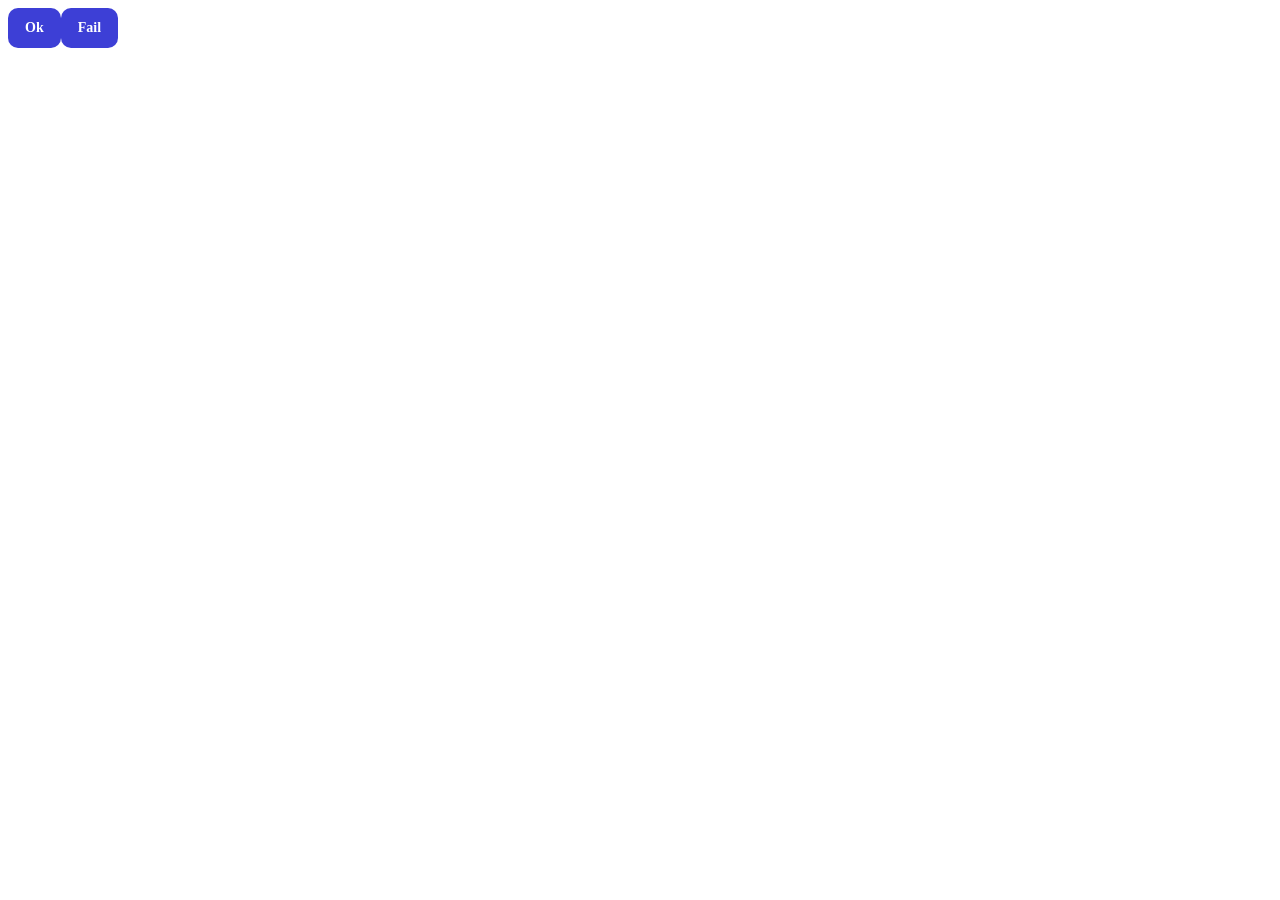
Toast › announces errors assertively and can be dismissed
Click the button "Fail" at (89, 28), box [61, 8, 118, 48]
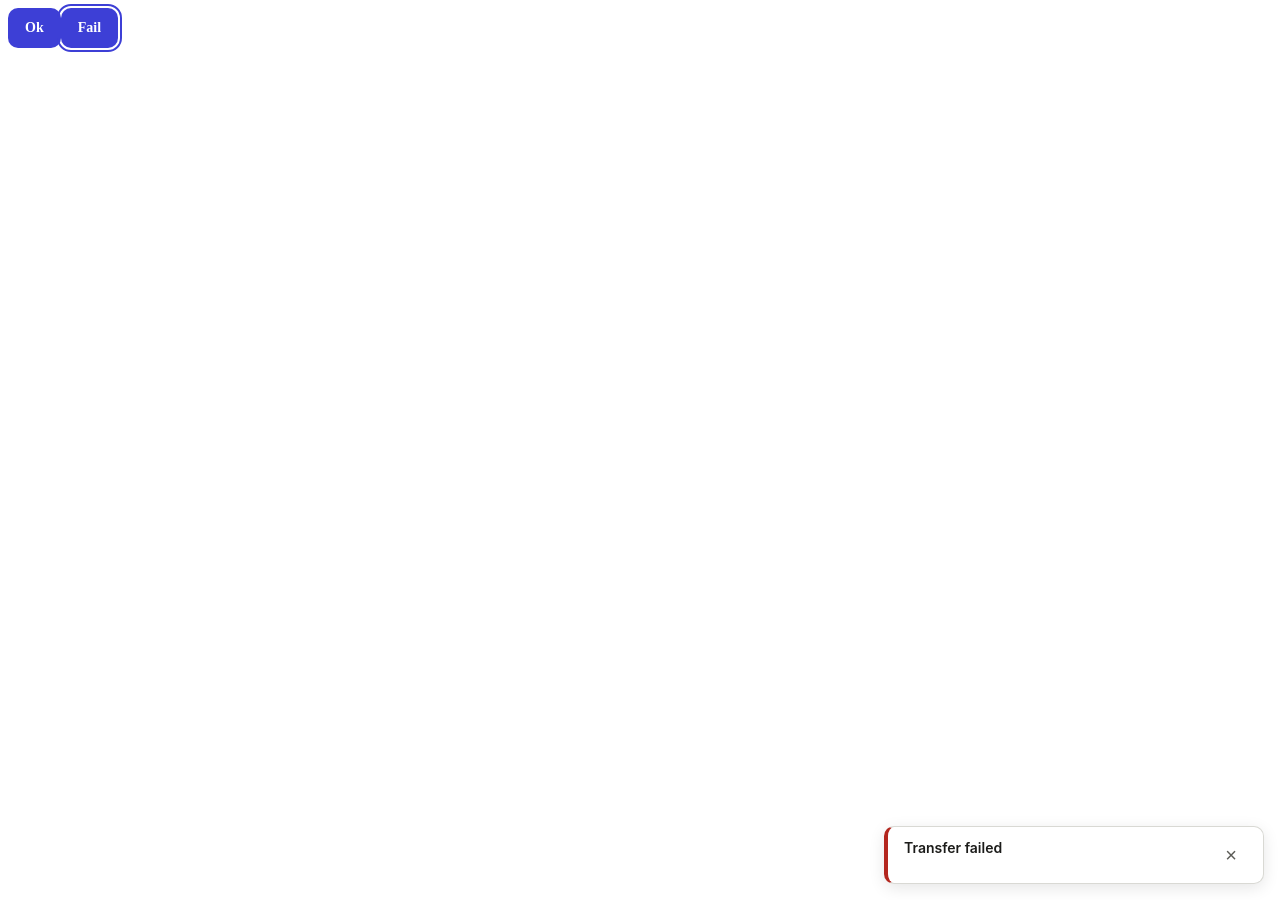
Now the message shows "Transfer failed", box [904, 839, 1002, 856]
Click the button named "Dismiss notification" at (1231, 855), box [1215, 839, 1247, 871]
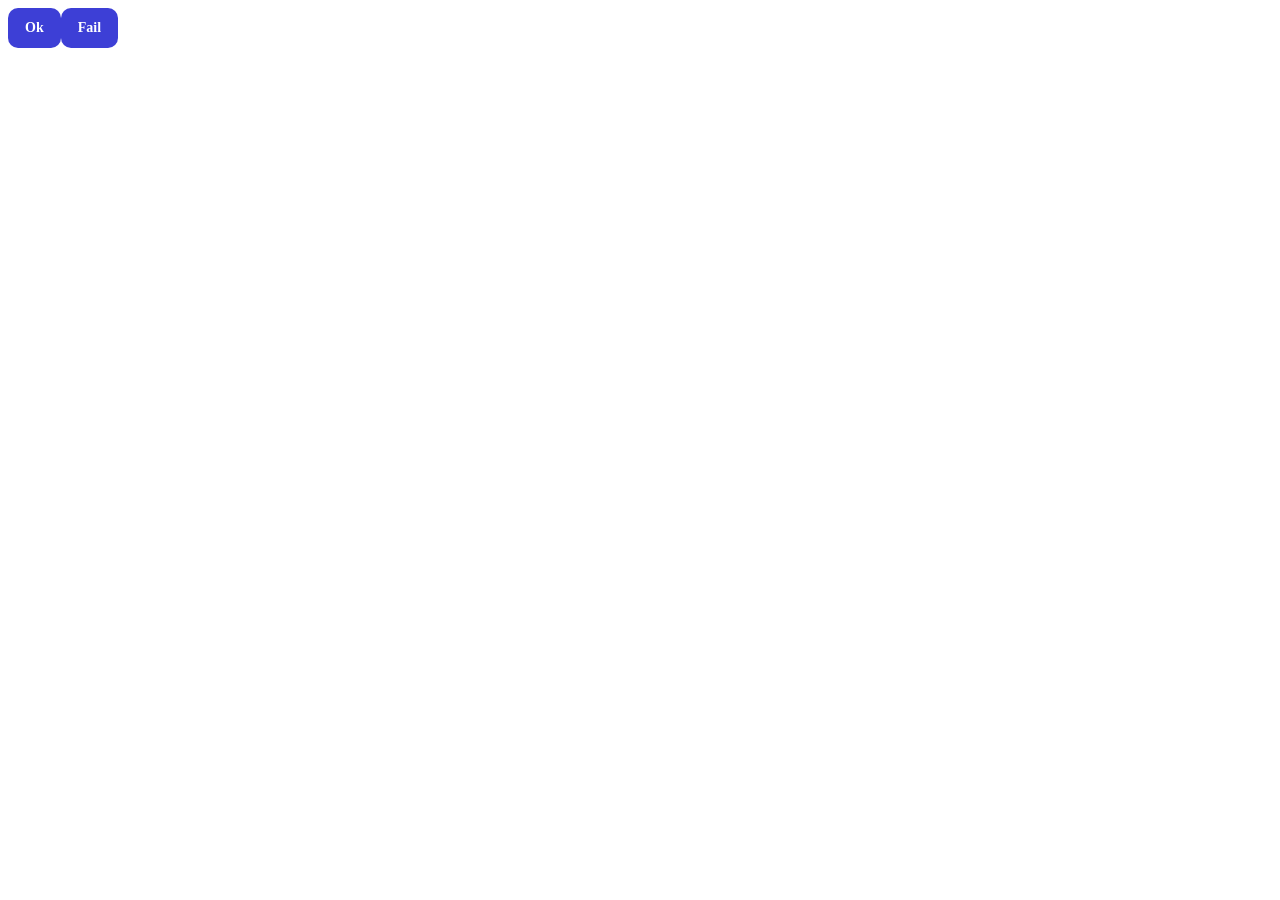
Now the message "Transfer failed ×" is gone
